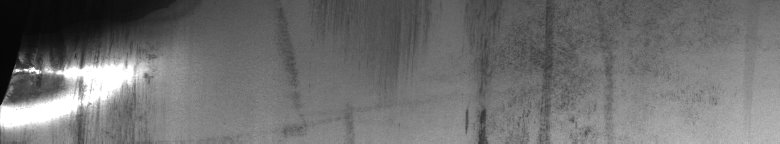ke: (21, 0, 153, 144)
